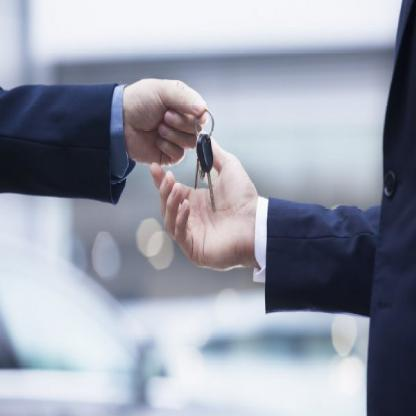keys: (192, 133, 218, 215)
